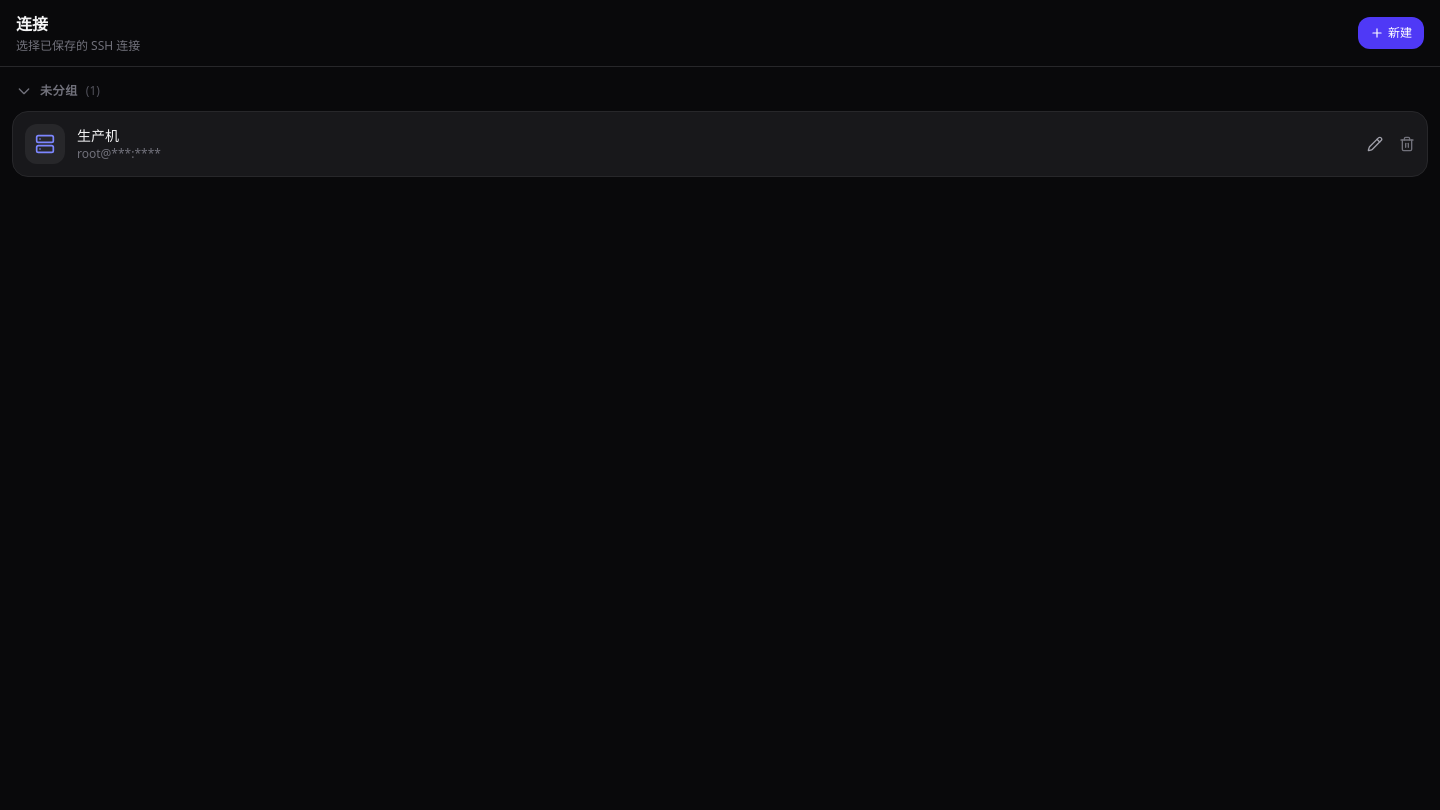
Test: 删除确认框走隐私模式口径 › 有名字时仍用名字（脱敏只碰主机口径，不动用户起的名字）
The image size is (1440, 810).
Click the button named "删除 生产机": (1407, 144) top-left (1391, 128), bottom-right (1423, 160)
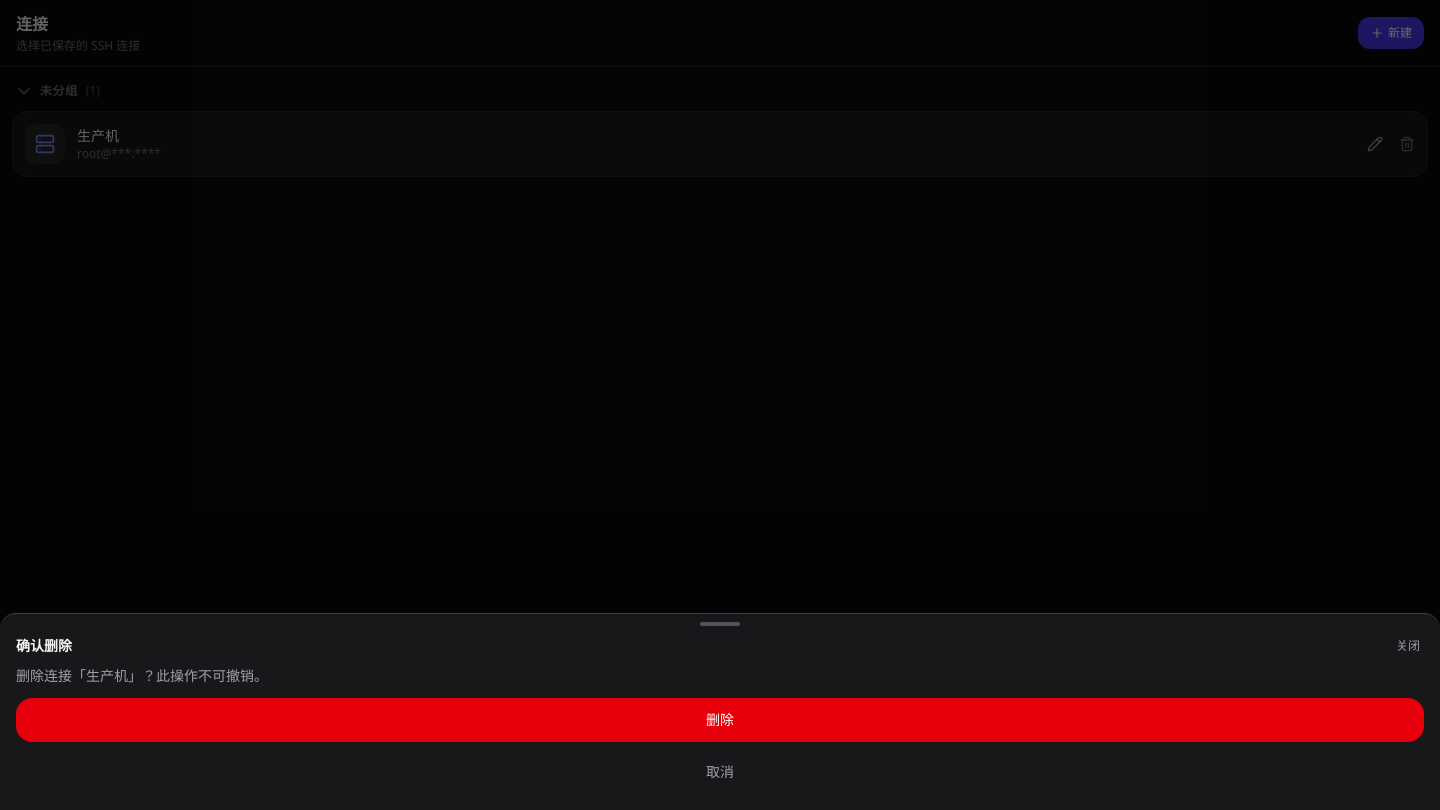
expect the text "删除连接「生产机」" is shown: met, box top-left (16, 666), bottom-right (268, 685)
